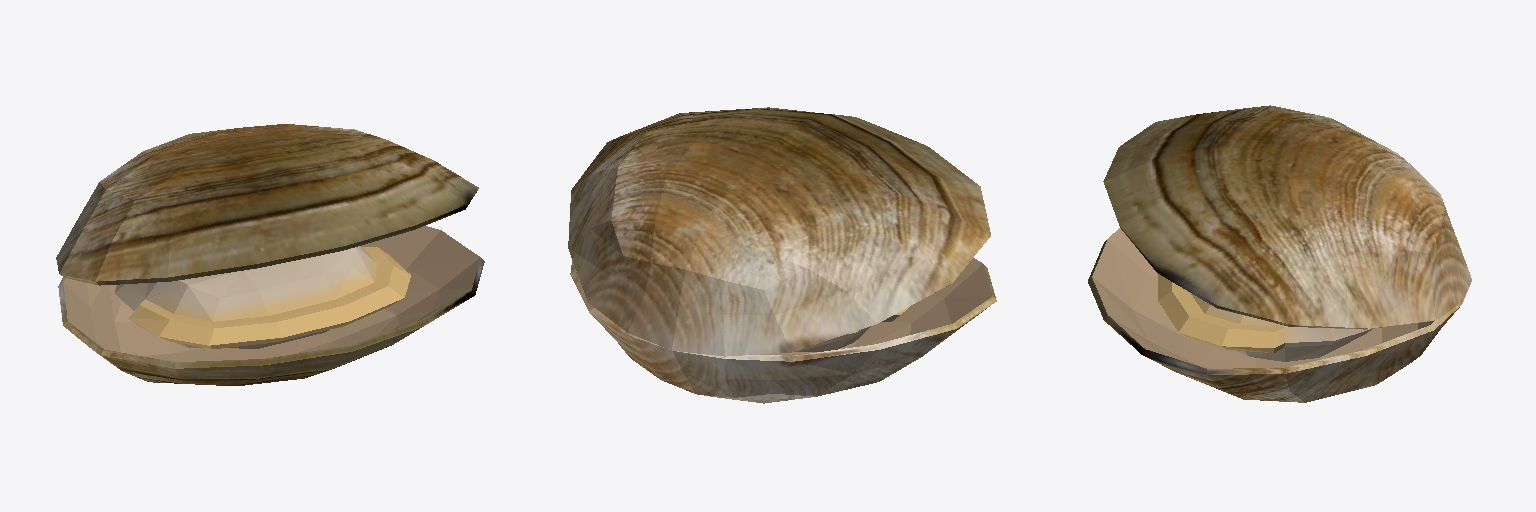
3 renders of one model, left to right at view 1: azimuth 30°, elevation 25°; view 2: azimuth 150°, elevation 25°; view 3: azimuth 270°, elevation 25°, orthographic.
Size of the model in its own units: 1.11 by 0.6029 by 0.9629.
2 materials, 1 textured.